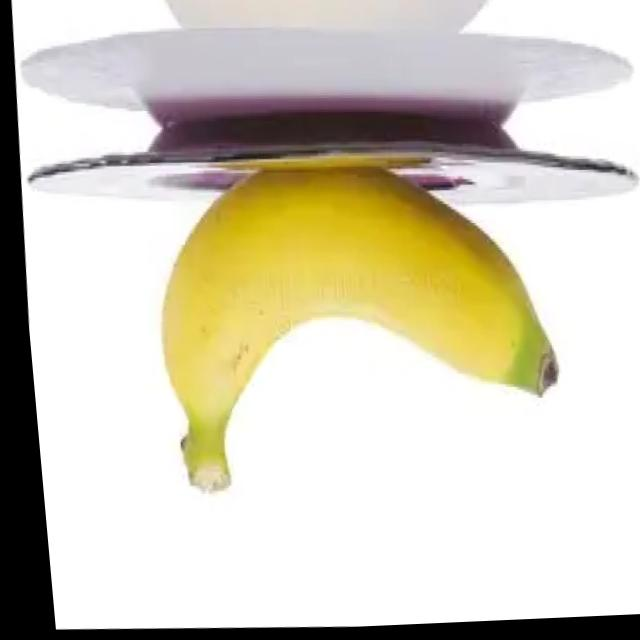BANANA: (160, 167, 559, 495)
